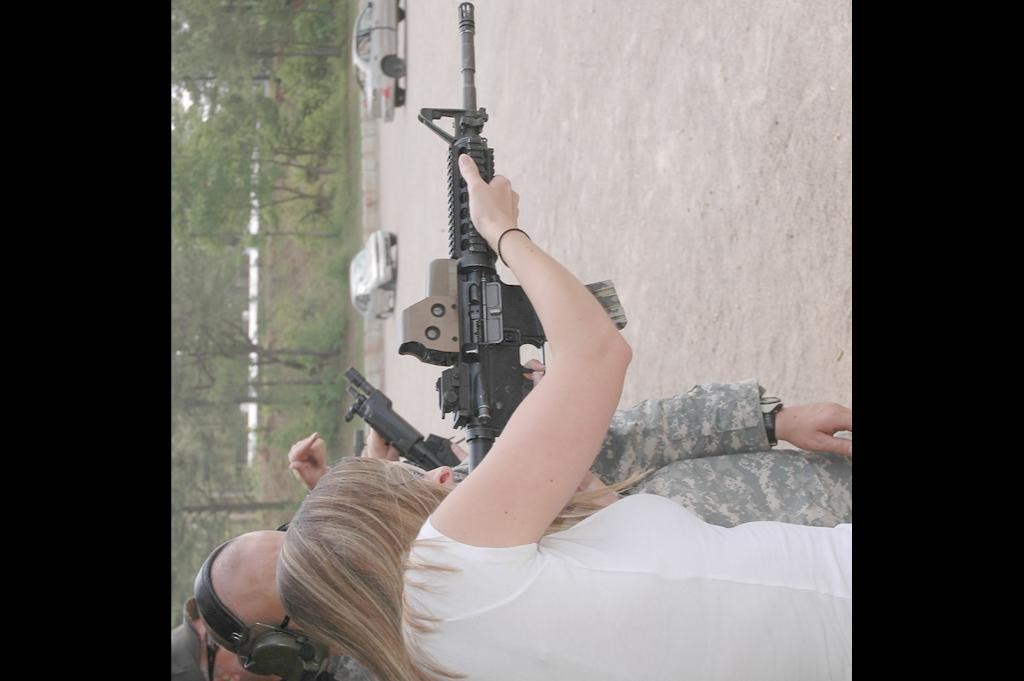gun: (399, 0, 609, 489)
